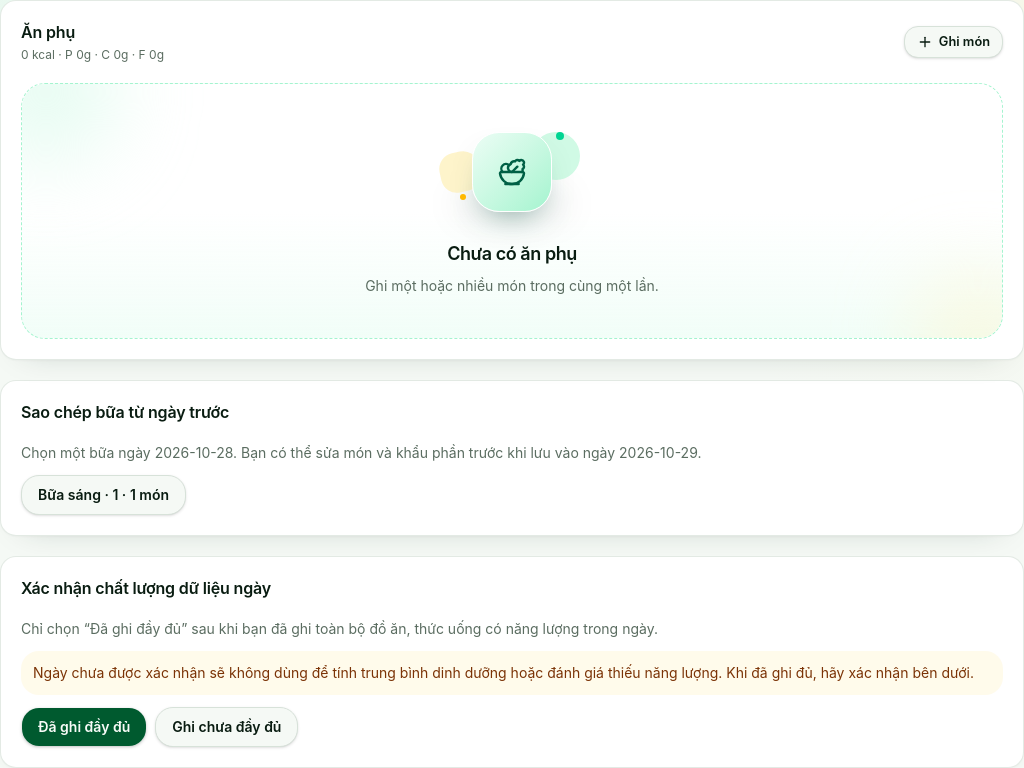
Test: NutritionPage › sao chép bữa thành bản nháp có thể sửa, không tự ghi nhật ký
(page scrolled)
Click the button "Bữa sáng · 1 · 1 món". click: [104, 495]
box: [21,475,186,515]
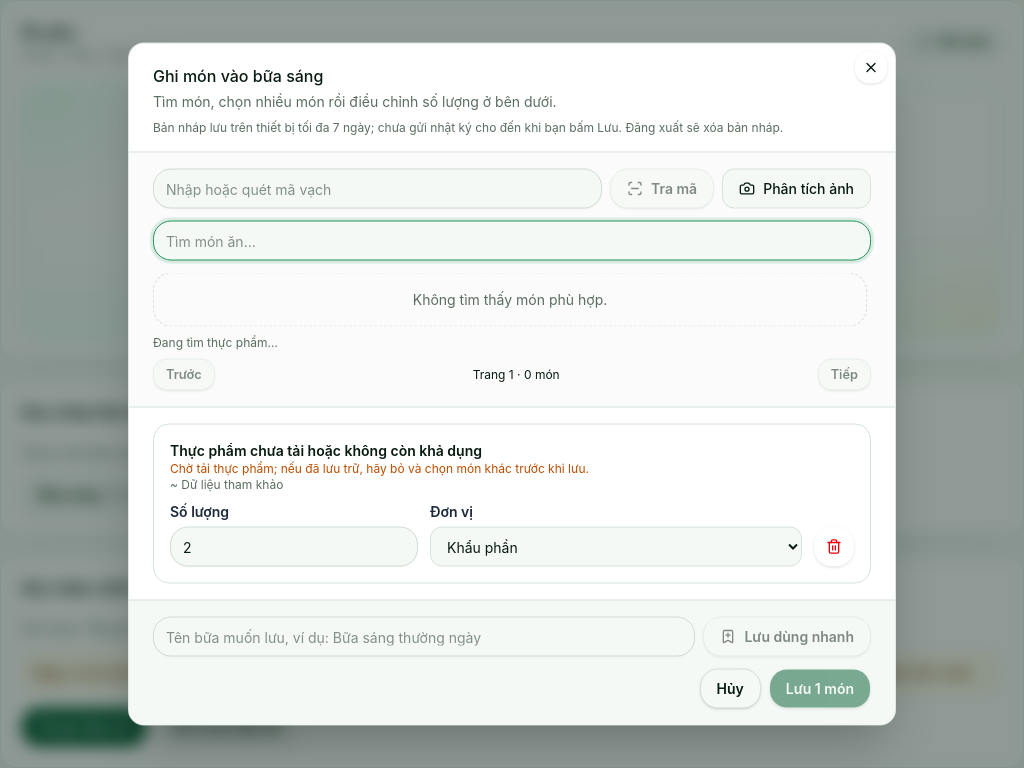
Now the number field holds "2"
Replace the text in the number field with "3". click: [294, 546]
box: [170,526,418,566]
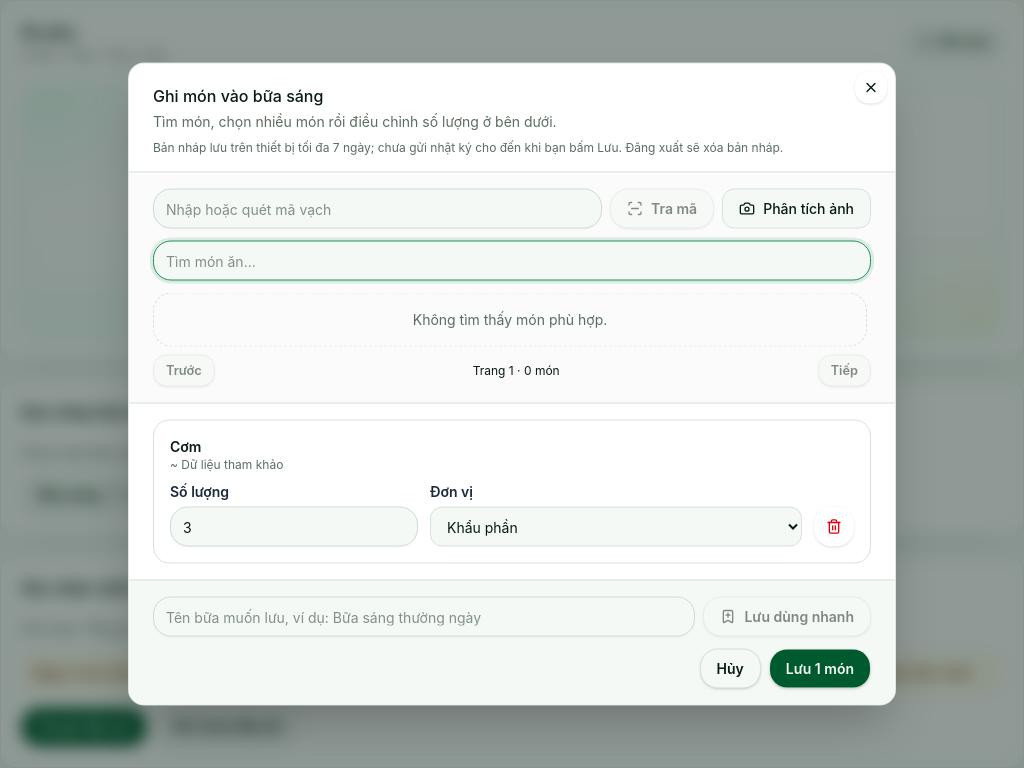
Now the button "Lưu 1 món" is enabled, box [769,648,871,688]
